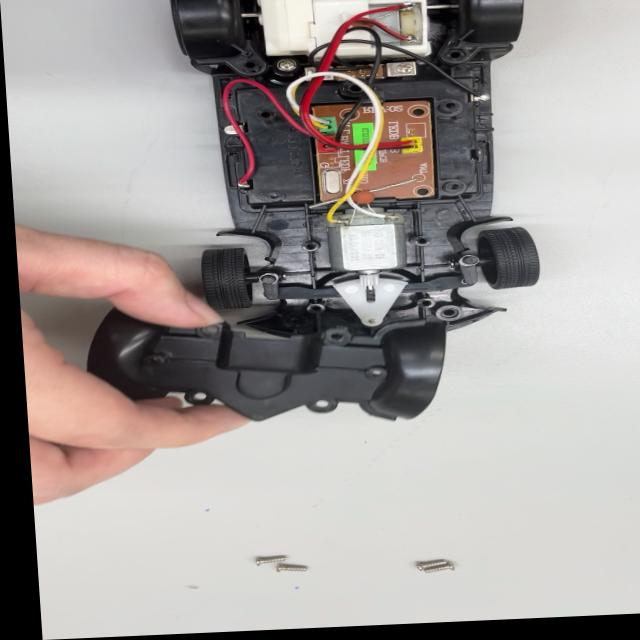motor: (333, 212, 415, 275)
motor_cover: (91, 298, 467, 436)
